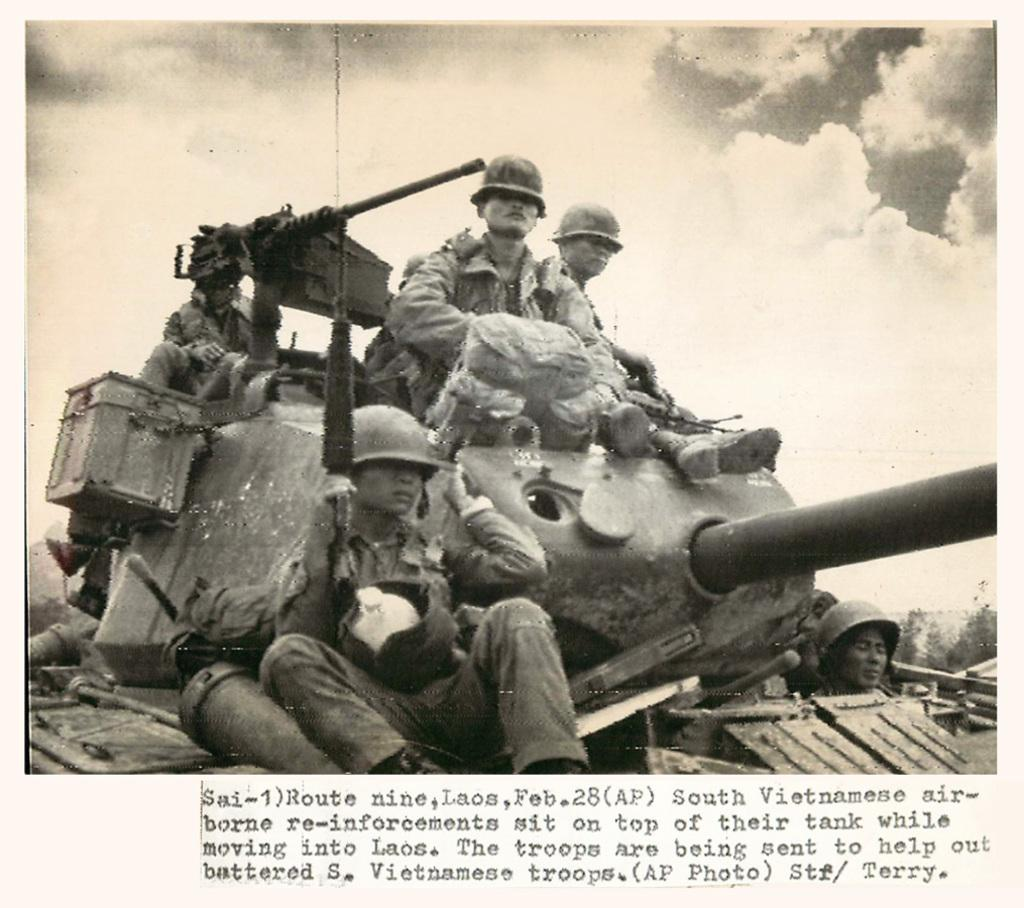Tank: (26, 27, 997, 775)
